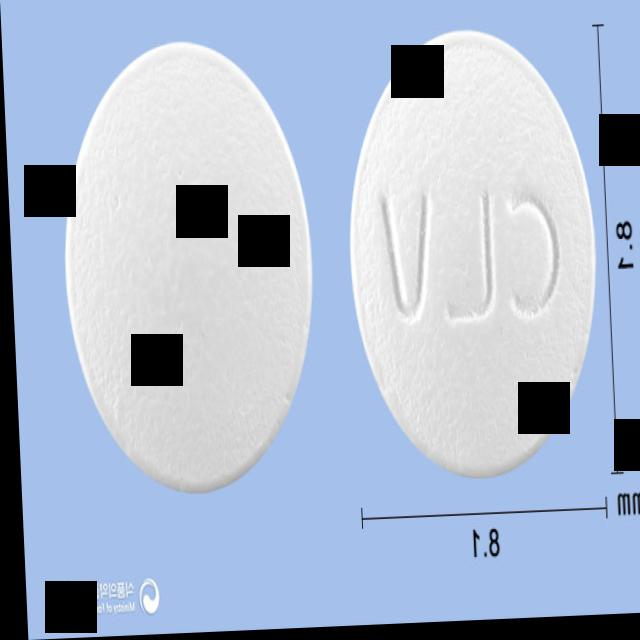Clevote: (54, 35, 319, 501), (339, 25, 601, 488)
